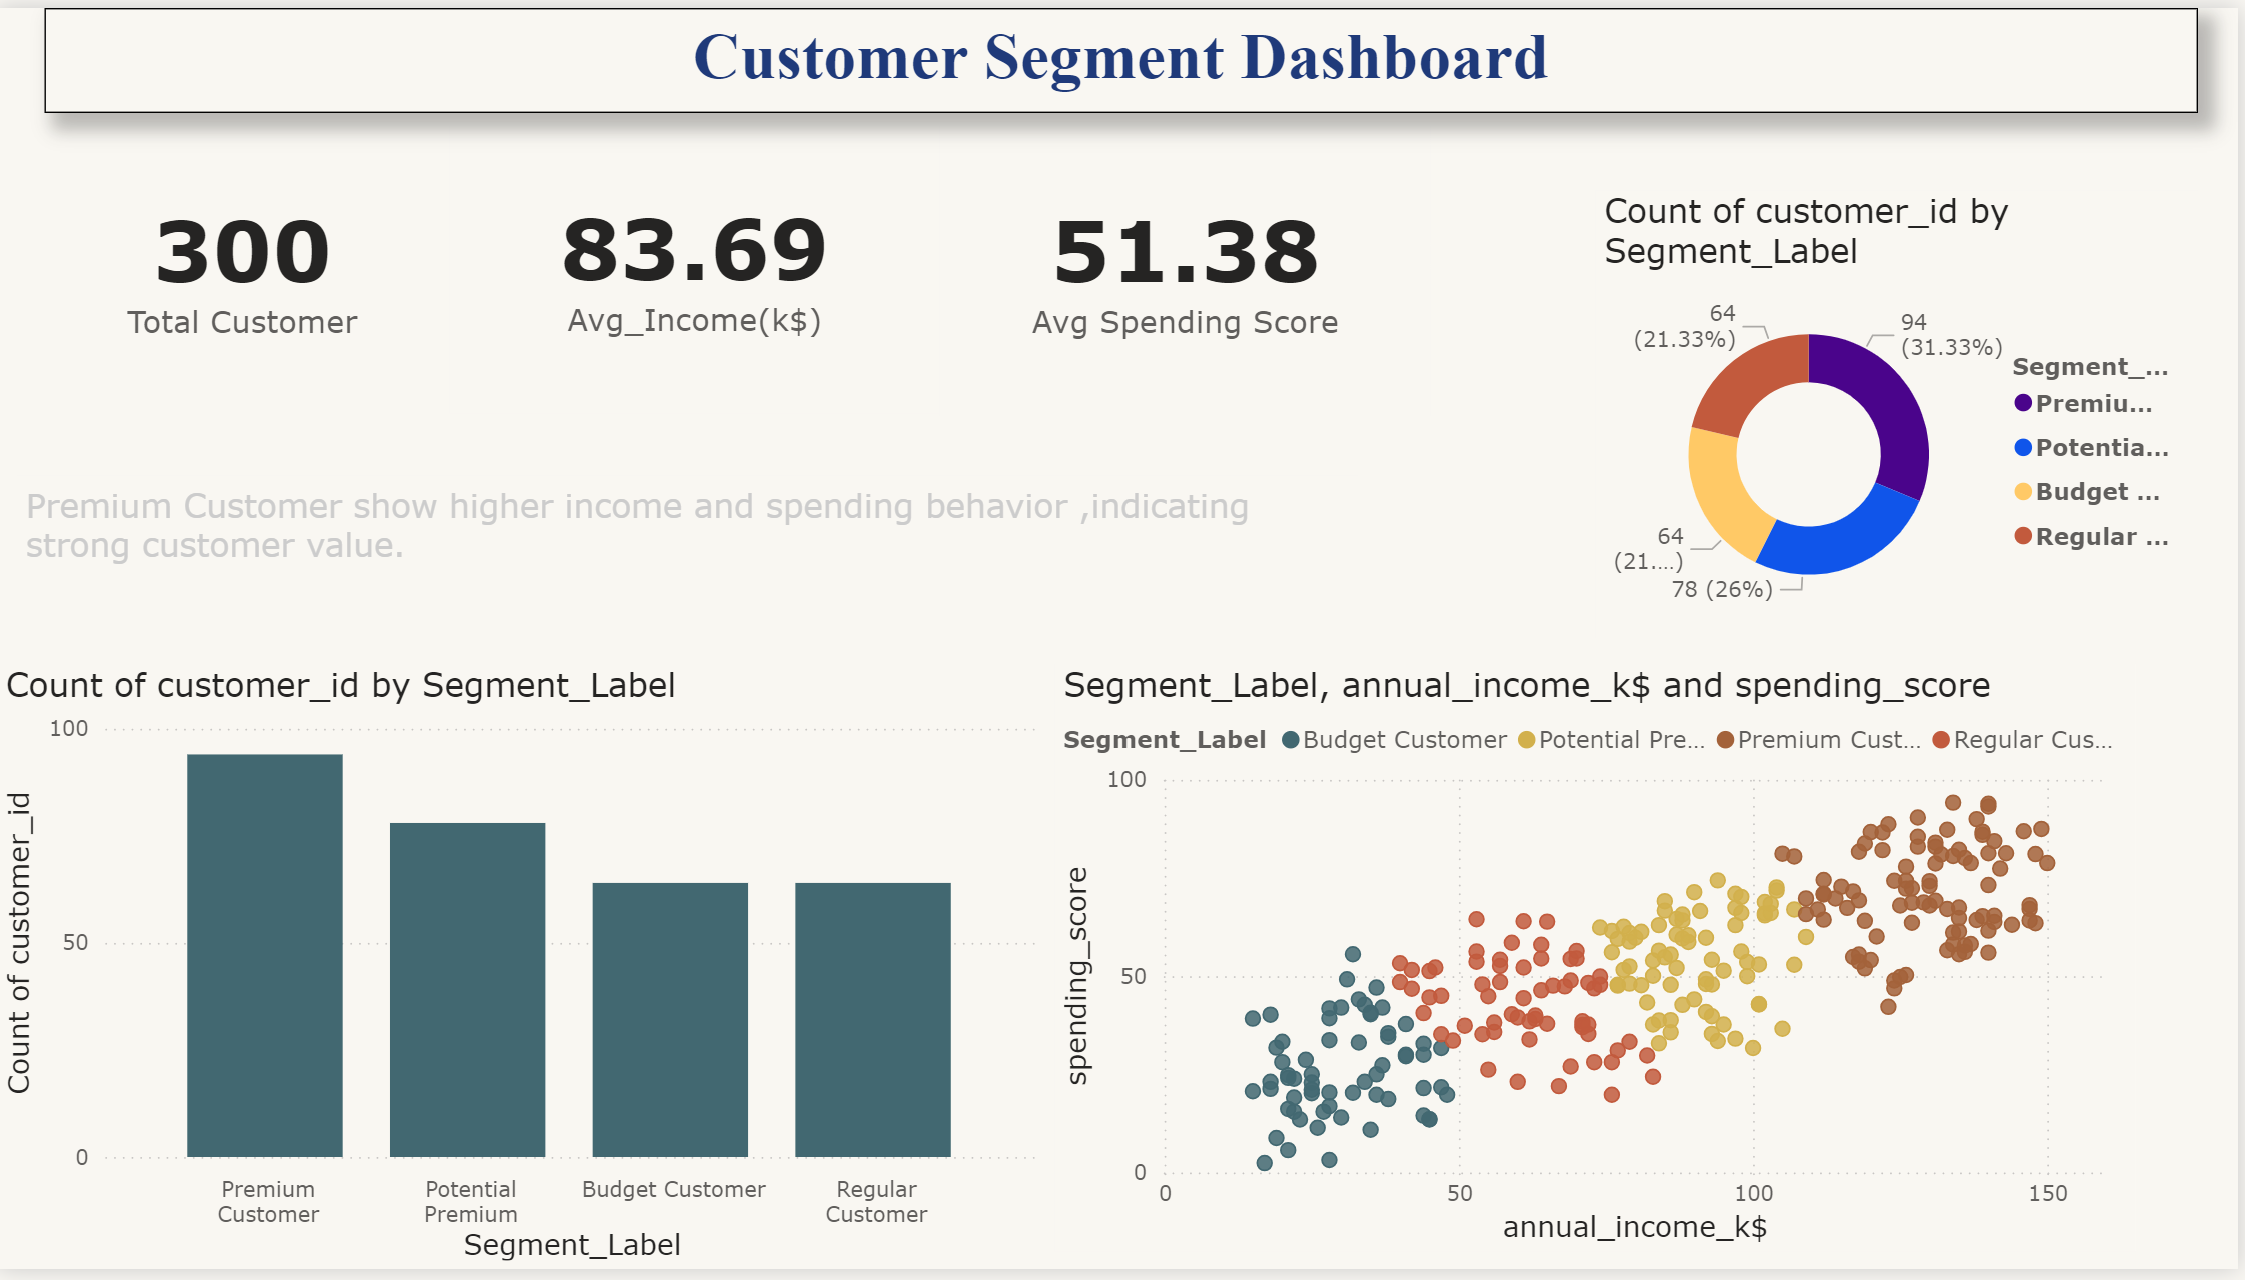

This screenshot's page, from the dashboard's own definition file:
{"tool":"powerbi","page":{"name":"Page 1","canvas":[1280,720],"ordinal":0},"visuals":[{"type":"card","fields":{"Values":["CountNonNull(final_segmented_data.customer_id)"]},"box":[0,61.4,280,171.4],"z":0},{"type":"card","fields":{"Values":["Avg(final_segmented_data.annual_income_k$)"]},"box":[258.6,60,280,171.4],"z":1000},{"type":"card","fields":{"Values":["Avg(final_segmented_data.spending_score)"]},"box":[538.6,61.4,280,171.4],"z":2000},{"type":"clusteredColumnChart","fields":{"Category":["final_segmented_data.Segment_Label"],"Y":["CountNonNull(final_segmented_data.customer_id)"]},"box":[0,374.3,600,345.7],"z":3000},{"type":"scatterChart","fields":{"X":["final_segmented_data.annual_income_k$"],"Y":["final_segmented_data.spending_score"],"Series":["final_segmented_data.Segment_Label"]},"box":[604.3,374.3,617.1,335.7],"z":4000},{"type":"textbox","box":[27.1,0,1230,60],"z":5000},{"type":"donutChart","fields":{"Category":["final_segmented_data.Segment_Label"],"Y":["CountNonNull(final_segmented_data.customer_id)"]},"box":[912.9,104.3,344.3,255.7],"z":6000},{"type":"textbox","box":[11.4,267.1,765.7,70],"z":7000}]}

Visuals, with their boxes in screenshot pixels (x1, y1, x2, y2), scaled from the page's 1280x720 canvas onto the 2245x1280 screenshot:
card - CountNonNull(final_segmented_data.customer_id): l=0, t=109, r=491, b=414
card - Avg(final_segmented_data.annual_income_k$): l=454, t=107, r=945, b=411
card - Avg(final_segmented_data.spending_score): l=945, t=109, r=1436, b=414
clusteredColumnChart - final_segmented_data.Segment_Label x CountNonNull(final_segmented_data.customer_id): l=0, t=665, r=1052, b=1279
scatterChart - final_segmented_data.annual_income_k$ x final_segmented_data.spending_score: l=1060, t=665, r=2142, b=1262
textbox: l=48, t=0, r=2205, b=107
donutChart - final_segmented_data.Segment_Label x CountNonNull(final_segmented_data.customer_id): l=1601, t=185, r=2205, b=640
textbox: l=20, t=475, r=1363, b=599
